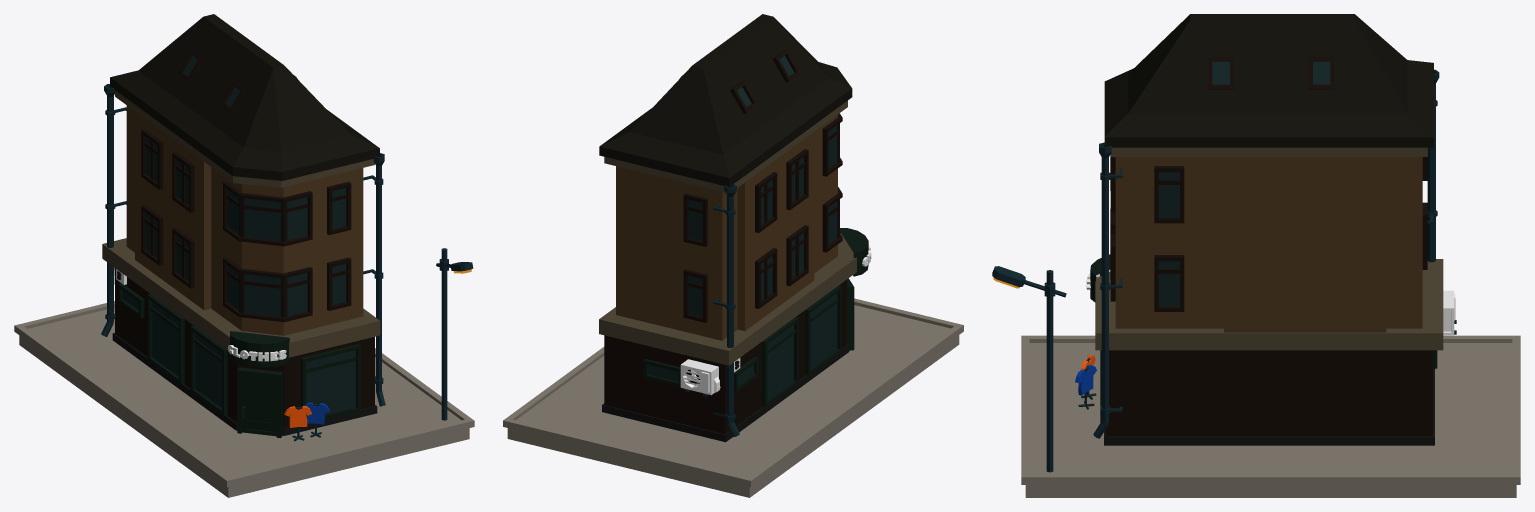
Rendered from House_03.fbx.
The picture shows the model from 3 angles, left to right: view 1: azimuth 30°, elevation 25°; view 2: azimuth 150°, elevation 25°; view 3: azimuth 270°, elevation 25°; orthographic projection. The views are drawn at different scales.
Visible parts, largest first — view 1: Plane094, level_010, level_014, level_008, Rectangle023, level_013, level_012, window_115, window_116, window_126, window_128, window_127 (+18 smaller); view 2: Plane094, level_010, level_014, level_008, level_012, Rectangle023, level_013, window_128, window_127, level_011, level_009, Cylinder1713 (+15 smaller); view 3: level_010, Plane094, level_012, level_014, level_008, level_013, Rectangle023, level_011, level_009, street_light_005, Cylinder1714, window_120 (+5 smaller).
Part boxes in pixels (x1,y1,x2,y2): Plane094: (19, 307, 469, 497); level_010: (110, 14, 379, 180); level_014: (126, 172, 363, 335); level_008: (126, 105, 363, 260); Rectangle023: (14, 301, 474, 487); level_013: (102, 238, 380, 357); level_012: (115, 268, 374, 428); window_115: (223, 257, 312, 322); window_116: (223, 181, 312, 246); window_126: (301, 344, 360, 419); window_128: (147, 294, 184, 384); window_127: (190, 326, 227, 415); Plane094: (507, 305, 959, 497); level_010: (599, 14, 852, 186); level_014: (616, 181, 837, 340); level_008: (616, 114, 837, 265); level_012: (604, 279, 847, 434); Rectangle023: (503, 298, 963, 487); level_013: (599, 233, 856, 365); window_128: (761, 317, 798, 407); window_127: (805, 285, 841, 375); level_011: (602, 343, 849, 442); level_009: (604, 100, 847, 192); Cylinder1713: (724, 183, 739, 436); level_010: (1104, 14, 1433, 147); Plane094: (1025, 343, 1516, 497); level_012: (1105, 350, 1432, 436); level_014: (1115, 240, 1422, 332); level_008: (1115, 157, 1422, 244); level_013: (1095, 259, 1443, 350); Rectangle023: (1021, 335, 1520, 484); level_011: (1104, 368, 1434, 445); level_009: (1110, 147, 1427, 156); street_light_005: (992, 266, 1066, 472); Cylinder1714: (1093, 142, 1111, 438); window_120: (1154, 166, 1184, 223).
Bounding box in the file's own units: 820 × 1110 × 1291.
